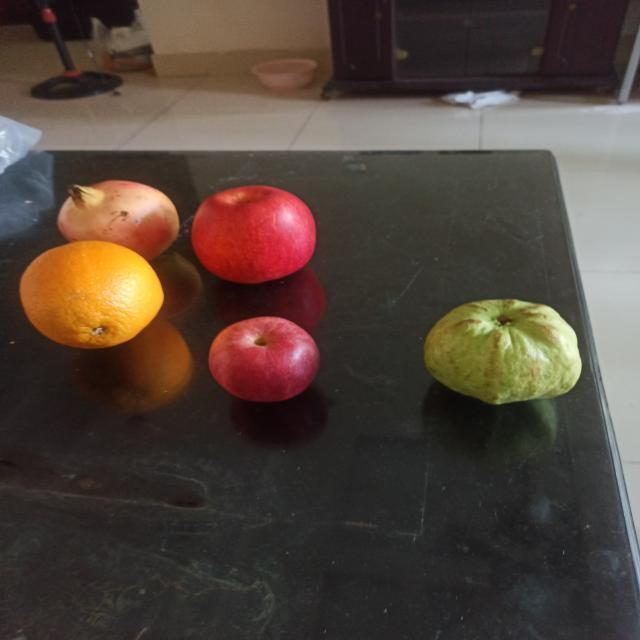apple: (191, 184, 317, 284), (208, 315, 320, 402)
